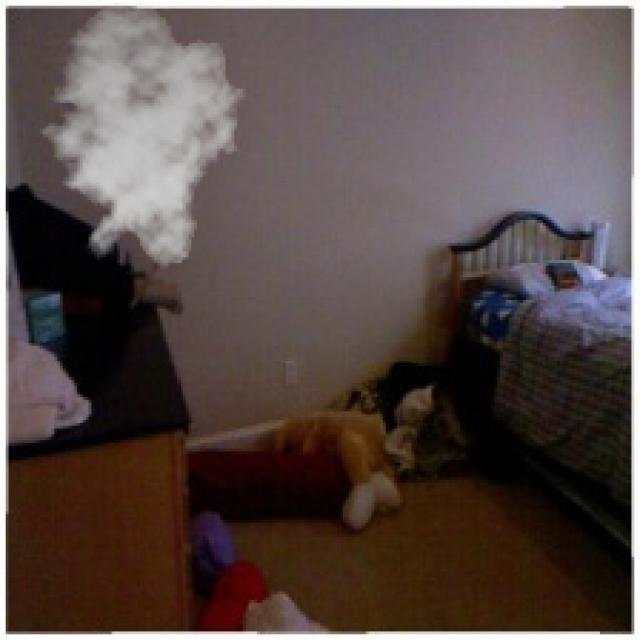smoke: (28, 3, 252, 268)
